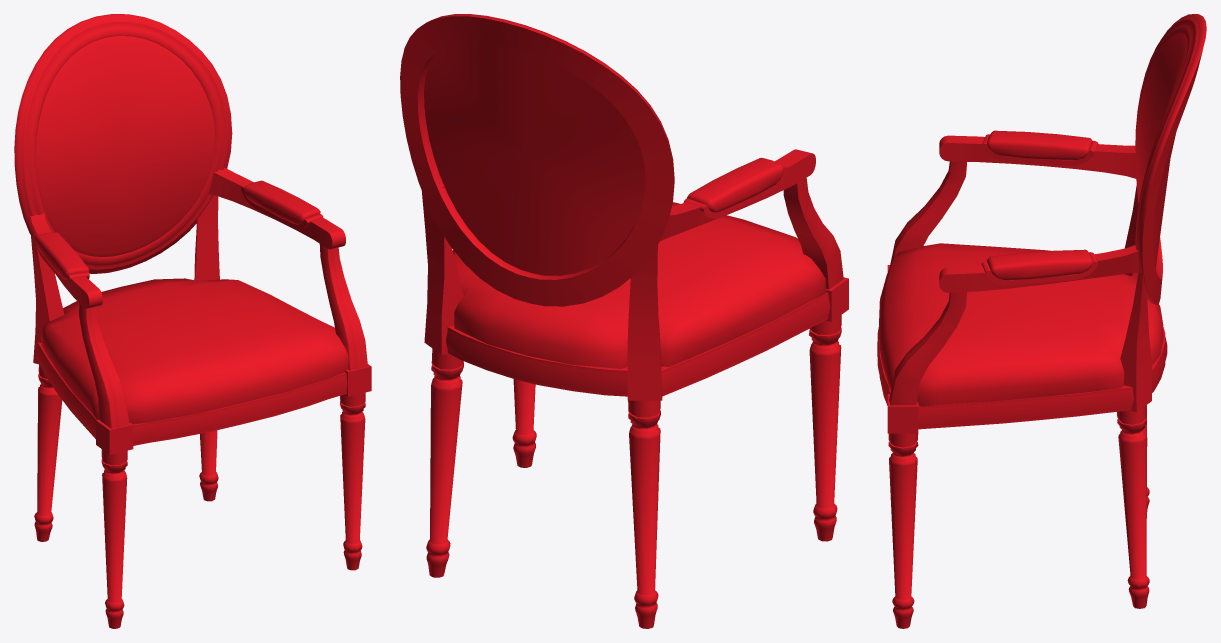
File: CHAIR 5.glb
3 renders of one model, left to right at view 1: azimuth 30°, elevation 25°; view 2: azimuth 150°, elevation 25°; view 3: azimuth 270°, elevation 25°, orthographic. The views are drawn at different scales.
Visible parts, largest first — view 1: chair_6; view 2: chair_6; view 3: chair_6.
Boxes of the visible parts, box(x1,y1,x2,y2) form: chair_6: box(14, 14, 371, 628); chair_6: box(400, 14, 848, 628); chair_6: box(877, 14, 1206, 628).
Size of the model in its own units: 0.5779 by 1.02 by 0.5681.
